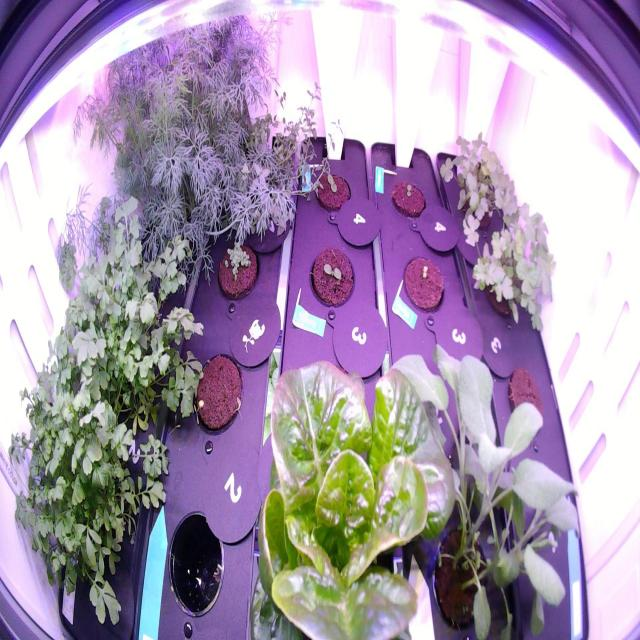Ready: (243, 337, 465, 640)
empty_pod: (163, 497, 230, 628), (532, 499, 576, 585)
germination: (304, 240, 362, 323), (211, 228, 264, 309), (396, 245, 451, 323), (308, 162, 354, 220), (384, 172, 431, 227)
pod: (192, 347, 250, 441), (501, 354, 550, 437)
